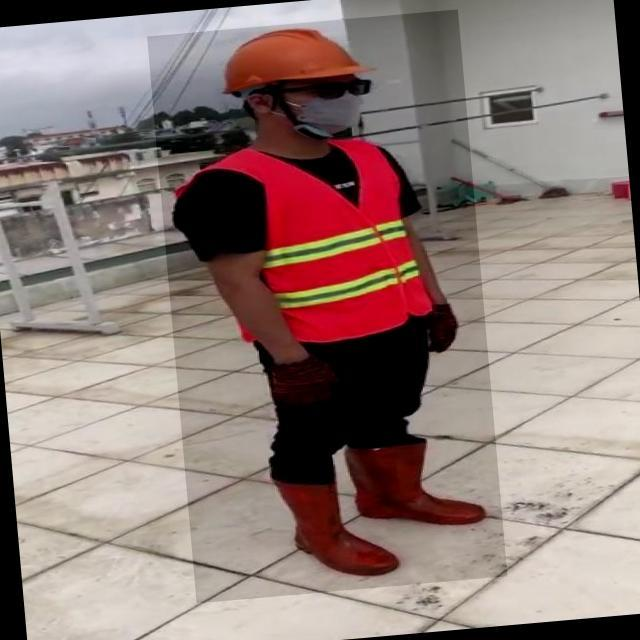Helmet: (210, 16, 373, 100)
Human: (148, 9, 508, 603)
Safety Boot: (272, 464, 407, 585), (340, 434, 485, 533)
Safety Vest: (167, 129, 432, 355)
